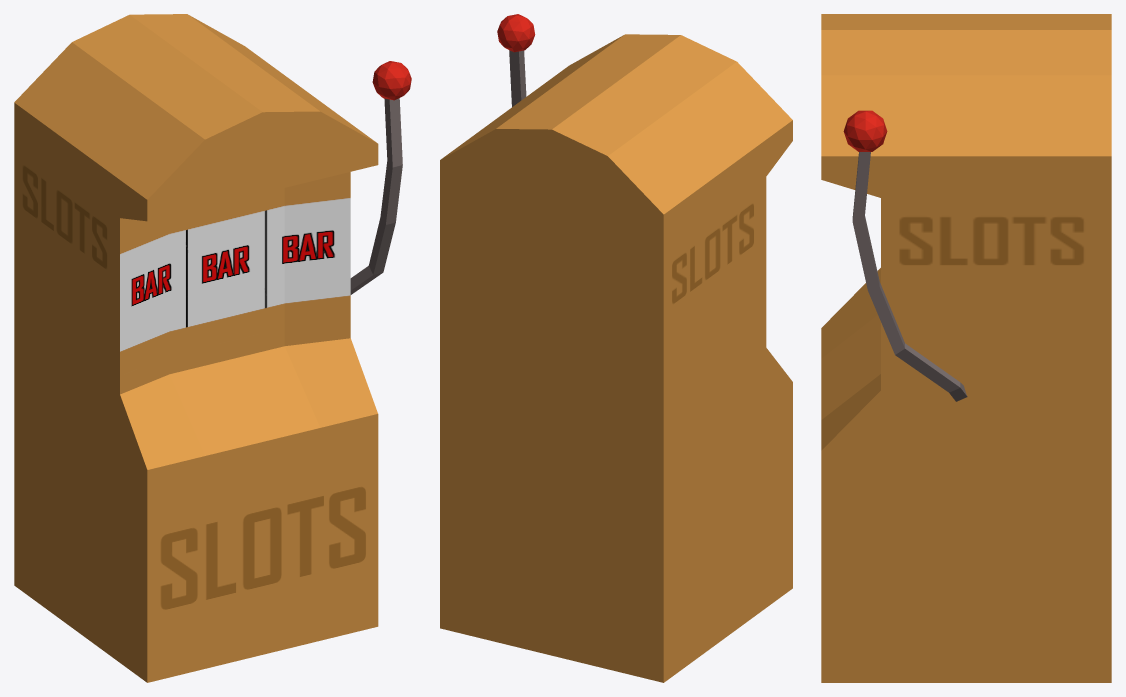
File: slotMachine2.fbx
3 views of the same model, side by side, from view 1: azimuth 30°, elevation 25°; view 2: azimuth 150°, elevation 25°; view 3: azimuth 270°, elevation 25° (orthographic). The views are drawn at different scales.
Visible parts, largest first — view 1: Cube; view 2: Cube; view 3: Cube.
Part boxes in pixels (x1,y1,x2,y2): Cube: (14,14,411,682); Cube: (440,14,792,682); Cube: (821,14,1111,682).
Bounding box in the file's own units: 244 × 449 × 200.
